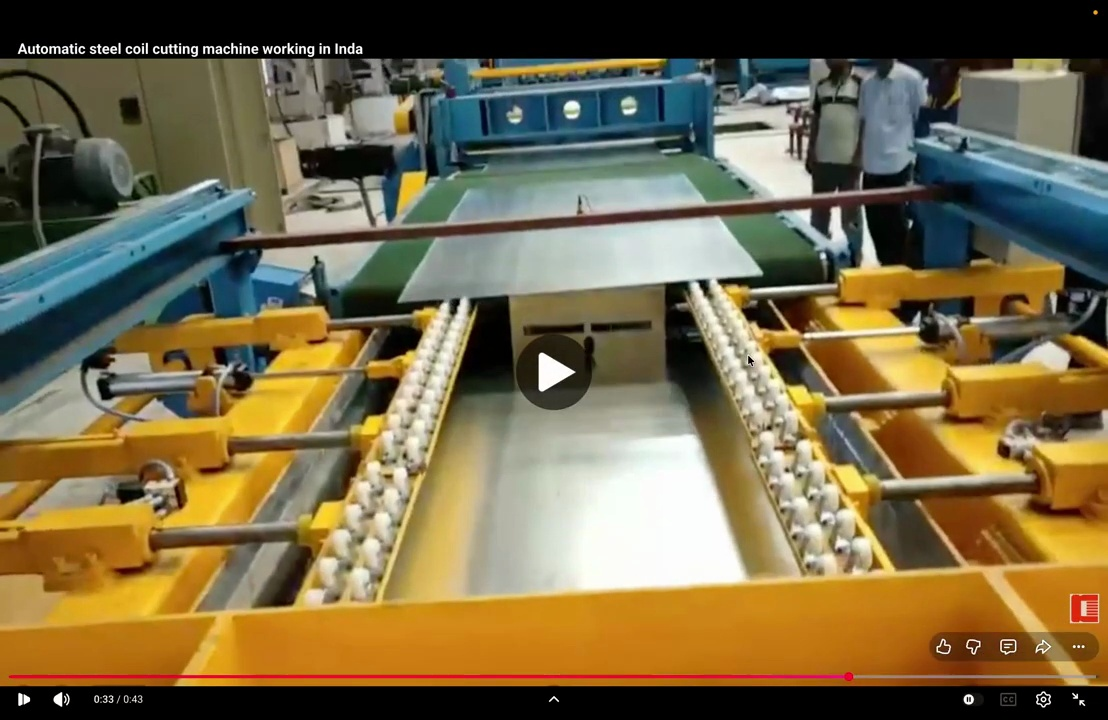steel plate: (400, 218, 761, 302)
